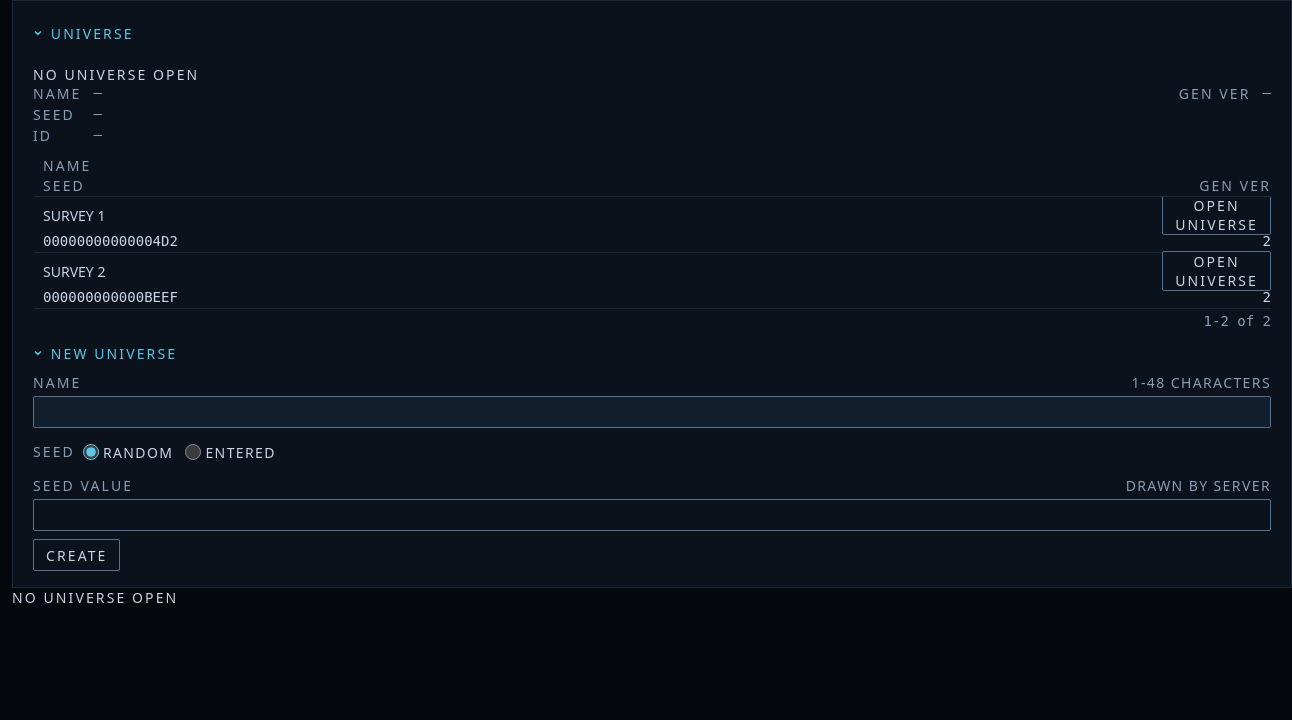
Test case: ParametersPanel › shows the server's reason when the request is rejected
Click the button with aria-label "Open universe SURVEY 1" at (1217, 215), box [1162,195,1271,235]
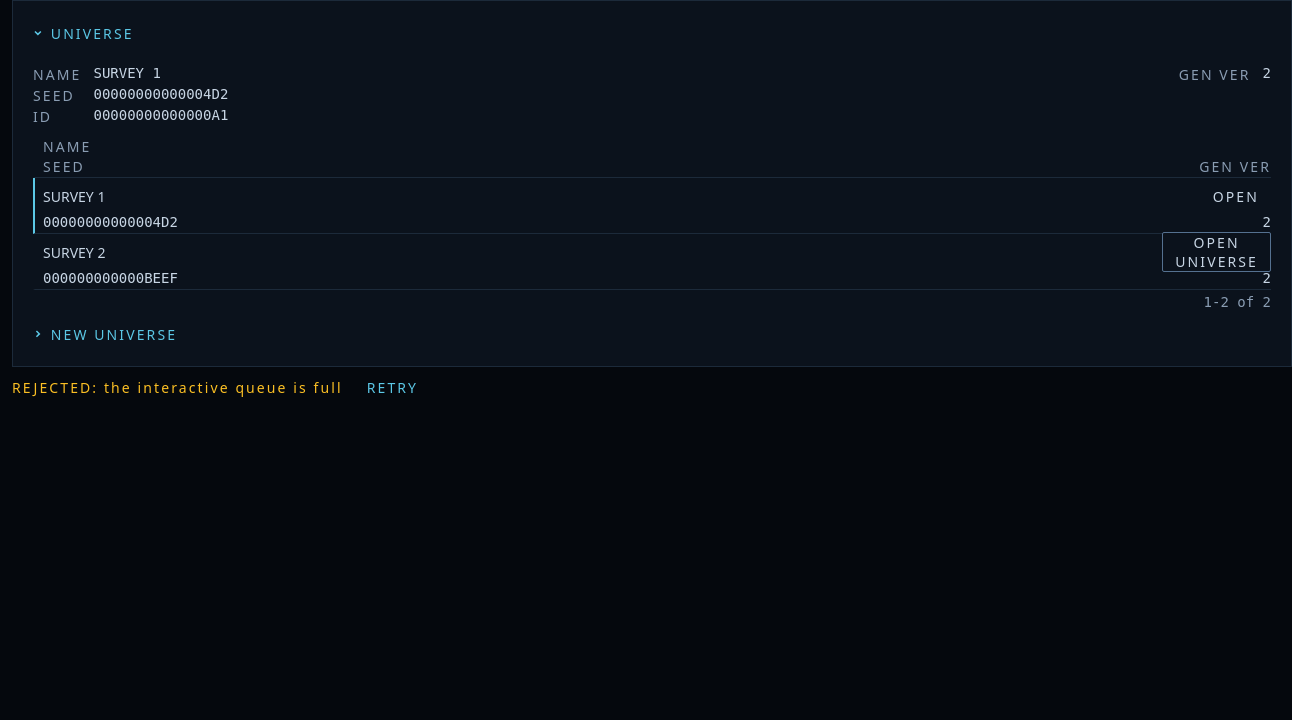
Expected: the text "REJECTED: the interactive queue is full" is shown, [12,378,343,396]
